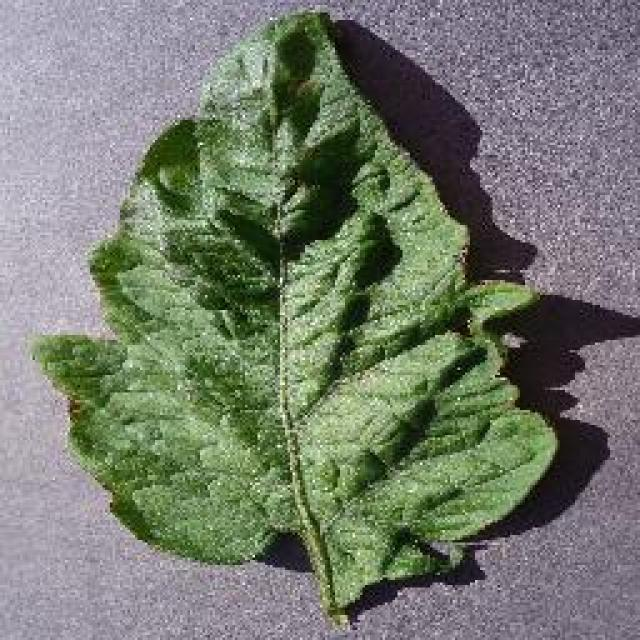Tomato Septoria spot leaf: (36, 12, 556, 618)
